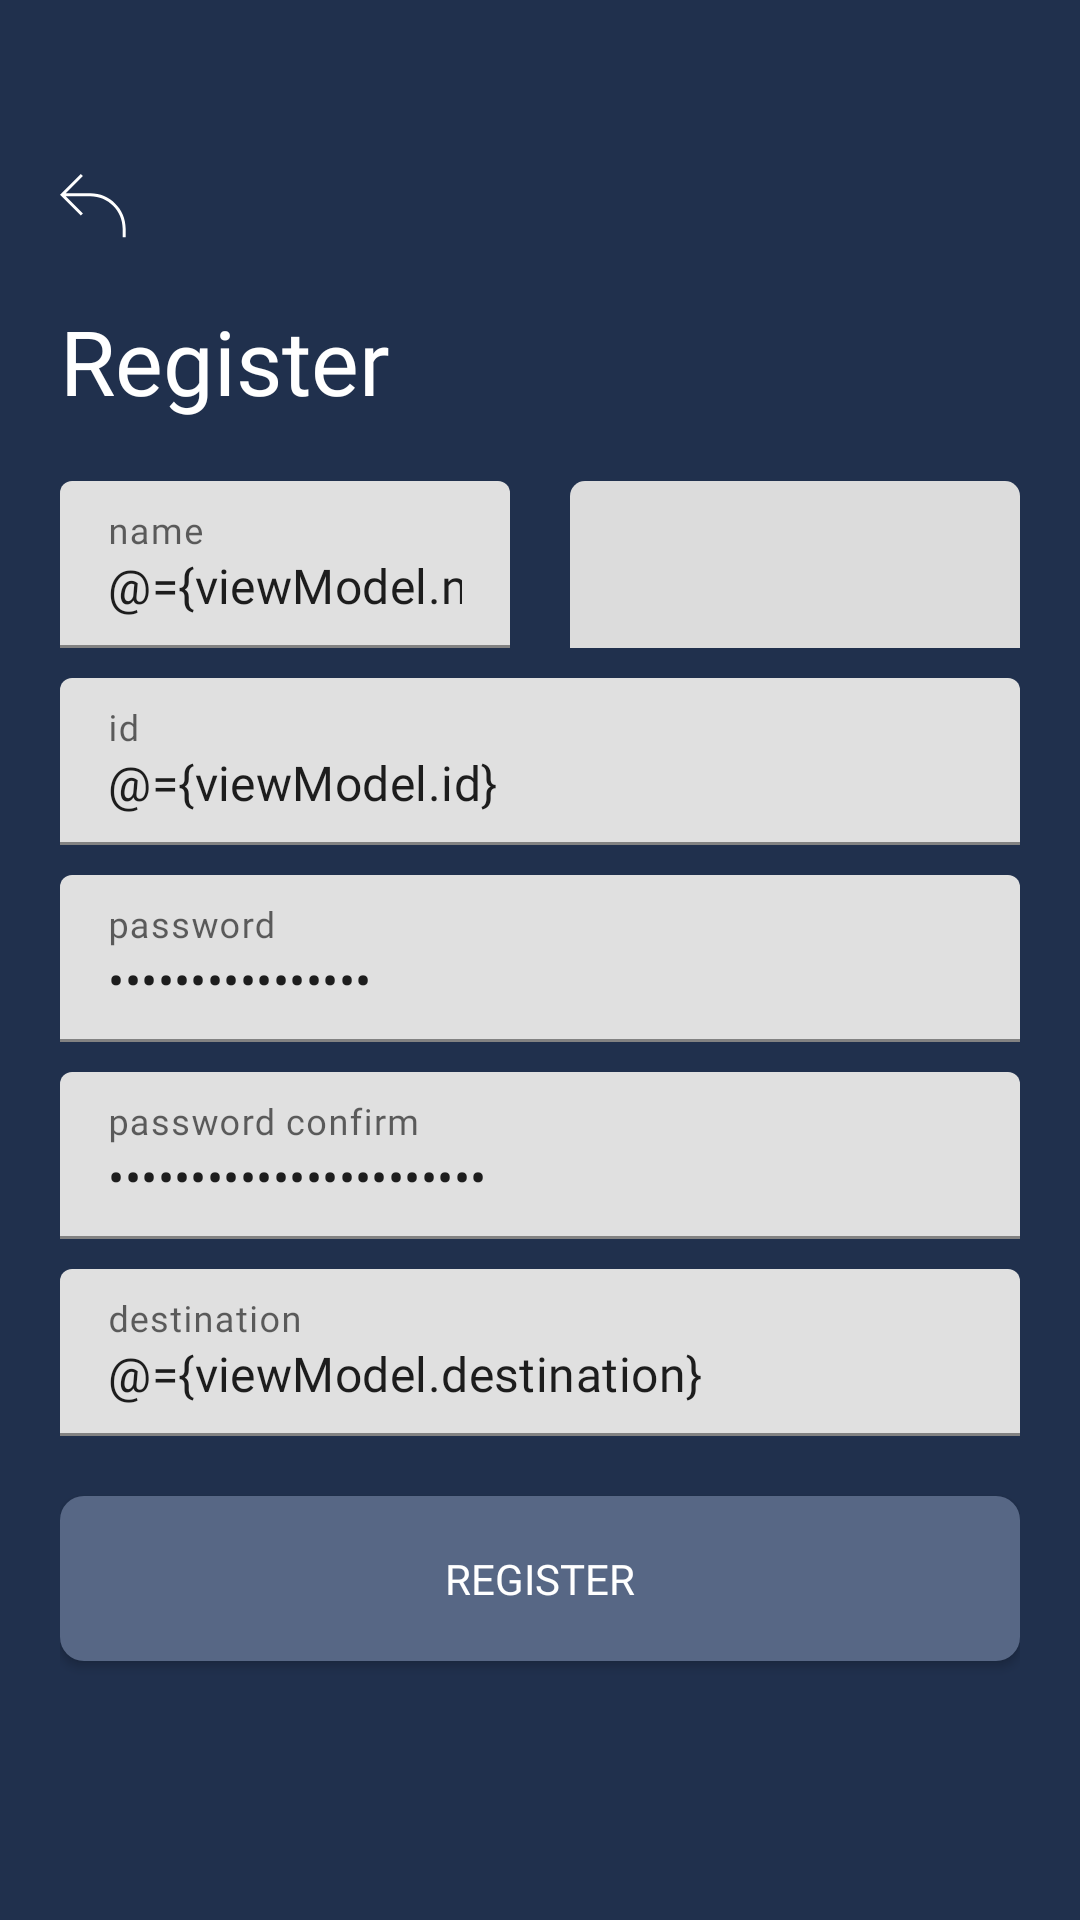

Screen size 1080px×1920px. Icon name, then its center in pixels as (x,y):
back: (93,206)
